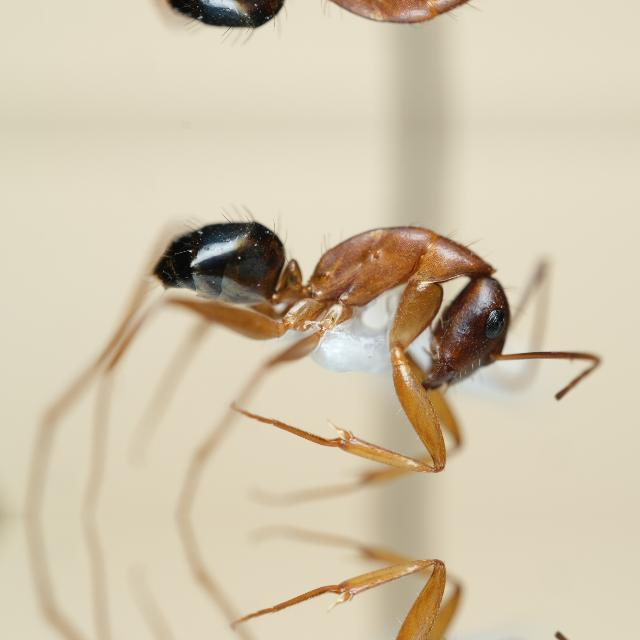Camponotus: (102, 190, 584, 430), (102, 0, 582, 58)
